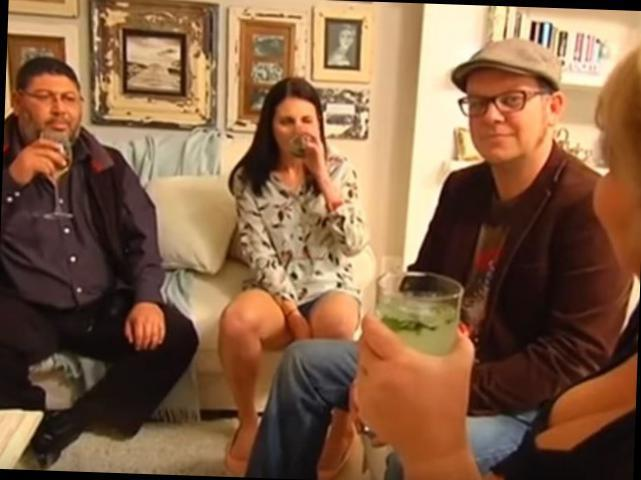Drunk: (463, 82, 540, 158), (29, 76, 79, 143)
